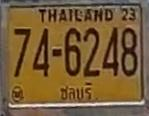2: (82, 28, 100, 76)
4: (32, 27, 49, 77), (102, 27, 119, 76)
6: (64, 27, 81, 76)
7: (13, 28, 30, 75)
8: (120, 27, 137, 75)
CBI: (55, 79, 96, 101)
